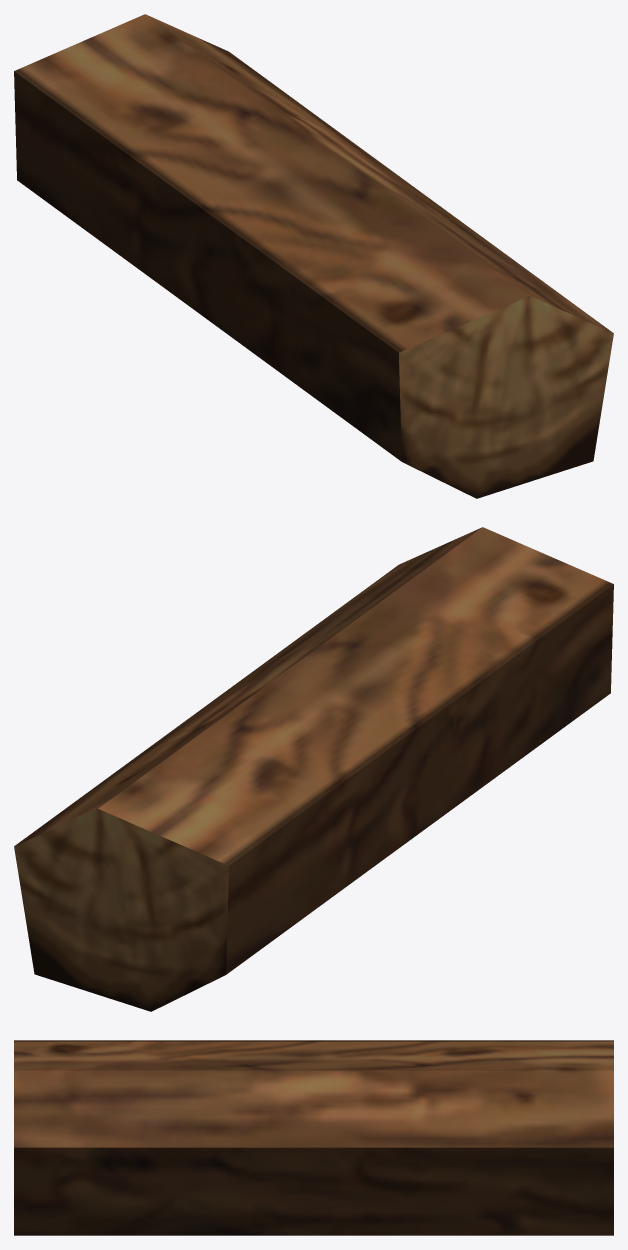
Rendered from fanasty_mod_log03.fbx.
The picture shows the model from 3 angles, top to bottom: view 1: azimuth 30°, elevation 25°; view 2: azimuth 150°, elevation 25°; view 3: azimuth 270°, elevation 25°; orthographic projection. The views are drawn at different scales.
Visible parts, largest first — view 1: log_03; view 2: log_03; view 3: log_03.
Part boxes in pixels (<box>): log_03: <box>14,14,613,498</box>; log_03: <box>14,527,613,1011</box>; log_03: <box>14,1040,613,1235</box>.
Bounding box in the file's own units: 0.3162 × 0.267 × 0.9796.
